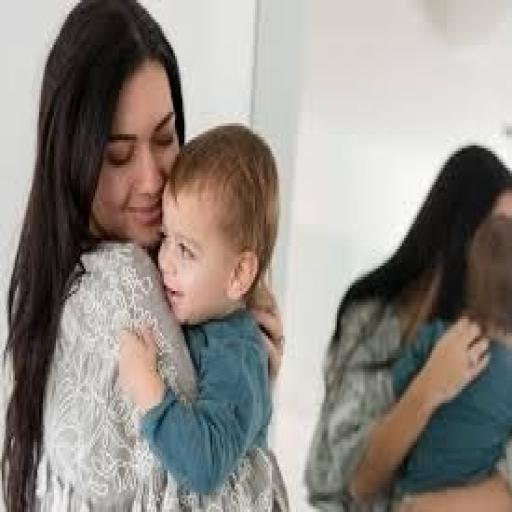hugging: (0, 0, 290, 509), (302, 140, 510, 509)
